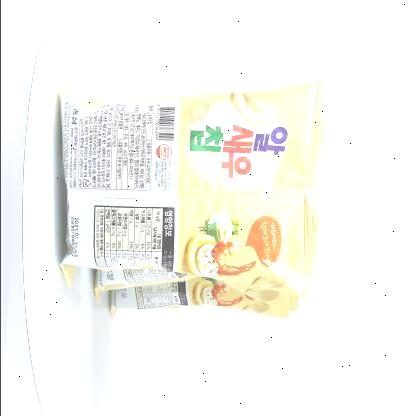Others: (44, 67, 336, 333)
